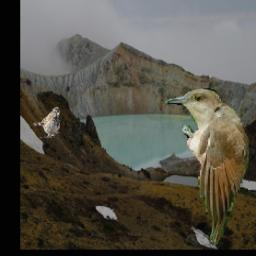Cuckoo: (165, 88, 250, 248)
Sparrow: (30, 106, 61, 138)
